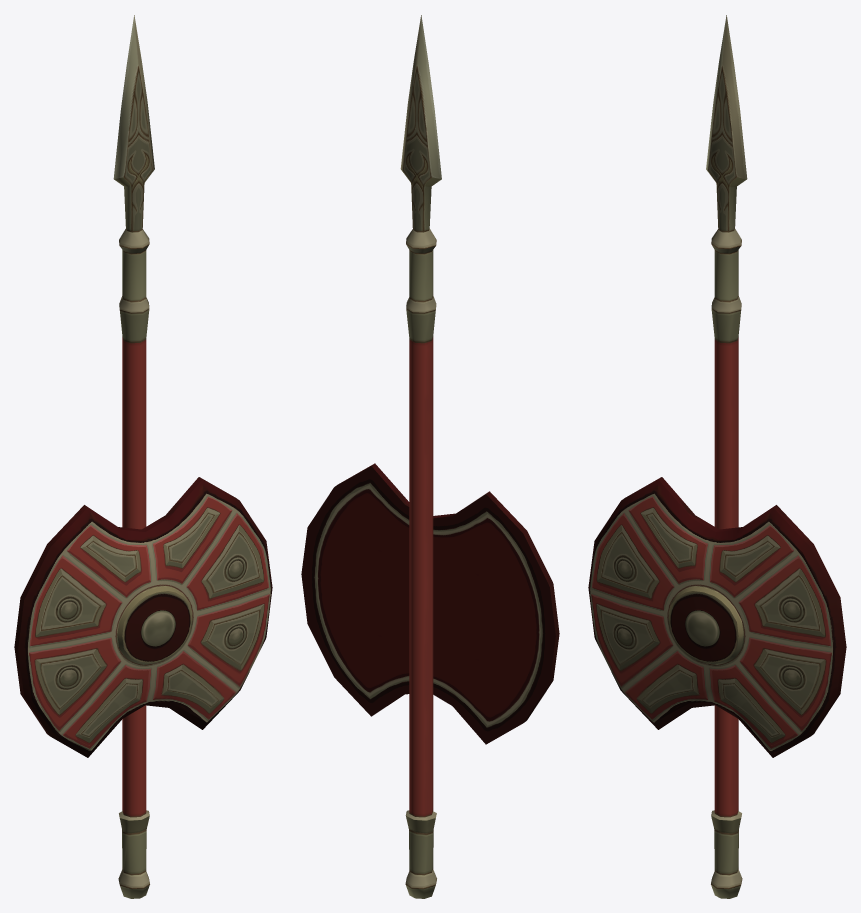
File: wp_lance_nlv20.fbx
The picture shows the model from 3 angles, left to right: view 1: azimuth 30°, elevation 25°; view 2: azimuth 150°, elevation 25°; view 3: azimuth 330°, elevation 25°; orthographic projection.
Parts seen in each view (by area): view 1: wp_lance_nlv20_02, wp_lance_nlv20_01; view 2: wp_lance_nlv20_02, wp_lance_nlv20_01; view 3: wp_lance_nlv20_02, wp_lance_nlv20_01.
Part boxes in pixels (x1,y1,x2,y2): wp_lance_nlv20_02: (14,477,272,757); wp_lance_nlv20_01: (113,15,154,898); wp_lance_nlv20_02: (301,463,559,744); wp_lance_nlv20_01: (400,15,441,898); wp_lance_nlv20_02: (588,477,846,757); wp_lance_nlv20_01: (706,15,747,898).
Bounding box in the file's own units: 88.92 × 294 × 21.75.
